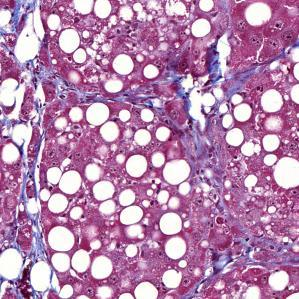fibrosis: (149, 70, 250, 136), (16, 132, 50, 228)
